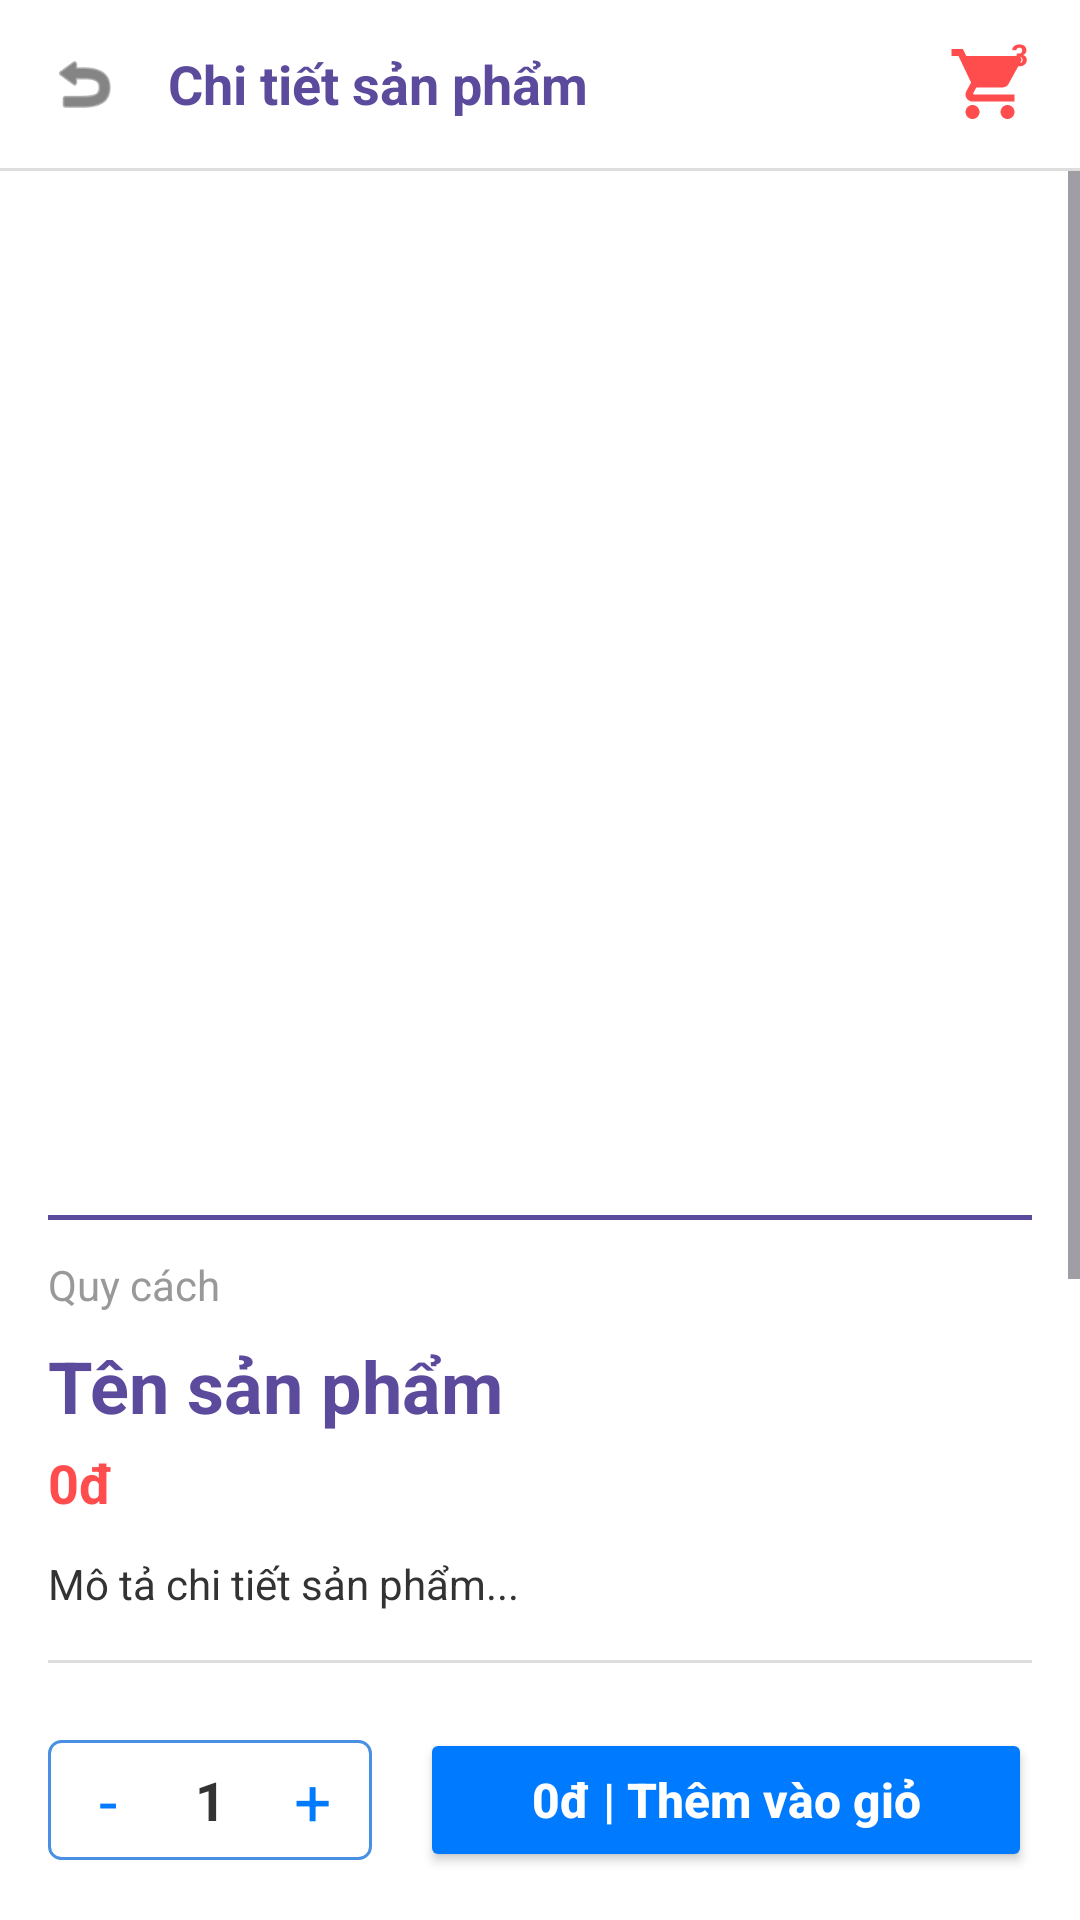

Icon click points for this 1080×1920 phone screenshot, format (x,y):
cart: (989,81)
revert: (85,84)
